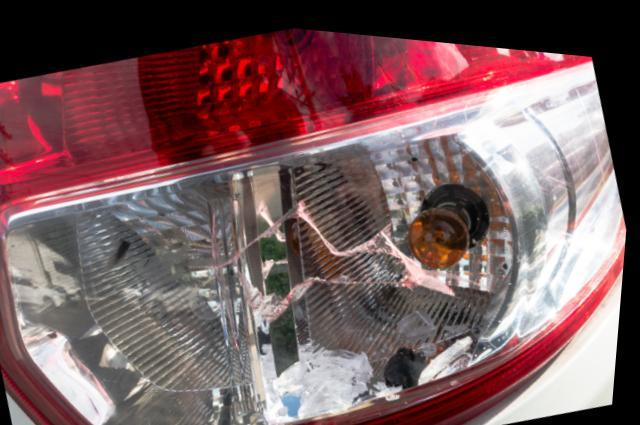lamp broken: (0, 22, 629, 425)
